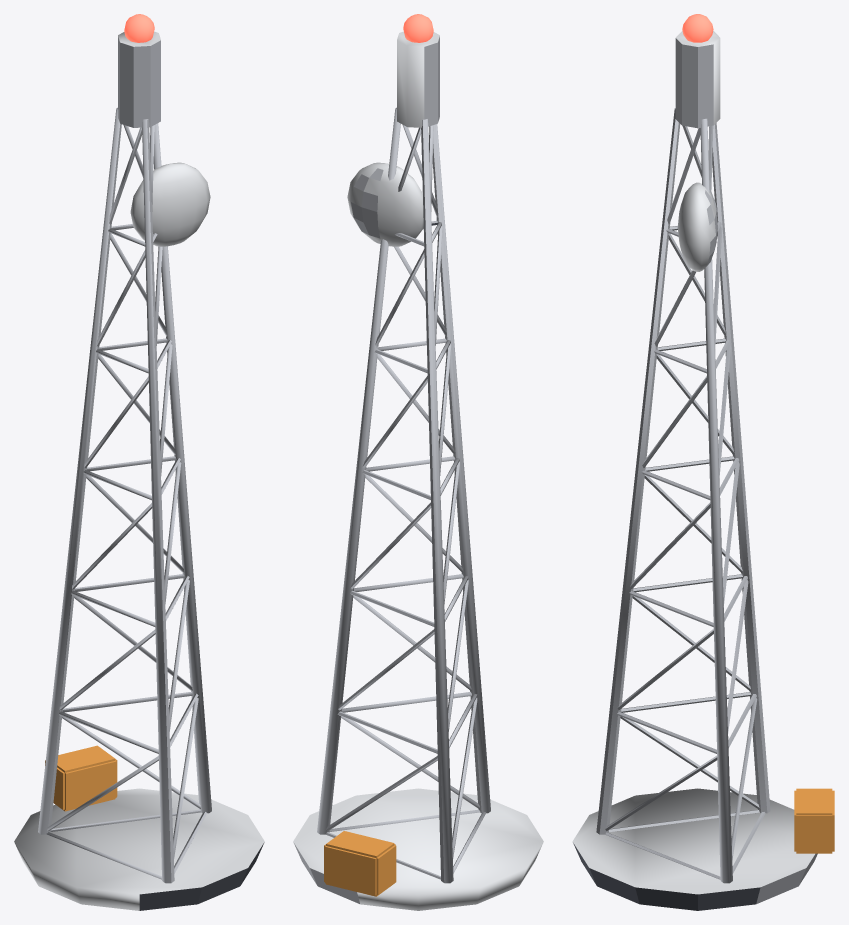
The model's file is radio_tower.glb.
3 renders of one model, left to right at view 1: azimuth 30°, elevation 25°; view 2: azimuth 150°, elevation 25°; view 3: azimuth 270°, elevation 25°, orthographic.
Parts seen in each view (by area): view 1: Radio_Tower; view 2: Radio_Tower; view 3: Radio_Tower.
Boxes of the visible parts, left/top/right/bottom form: Radio_Tower: left=14, top=14, right=264, bottom=910; Radio_Tower: left=293, top=14, right=543, bottom=910; Radio_Tower: left=572, top=14, right=834, bottom=910.
Size of the model in its own units: 5.6 by 20.85 by 5.85.
